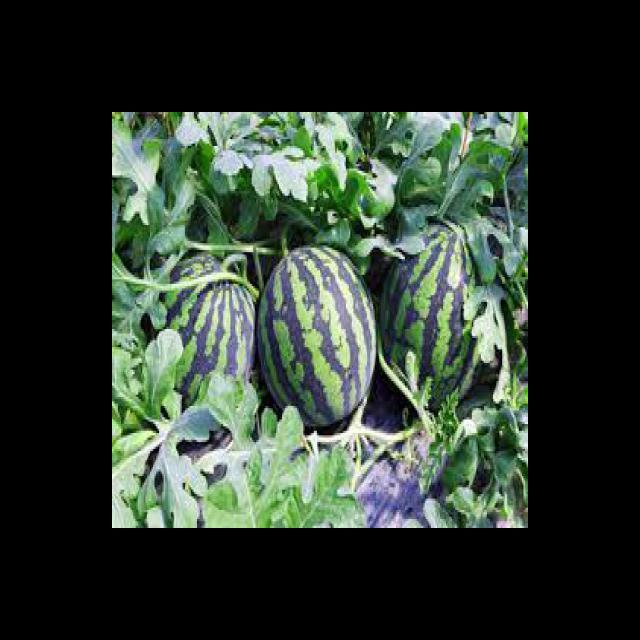watermelon: (255, 242, 378, 428), (376, 224, 476, 416), (152, 250, 256, 414)
